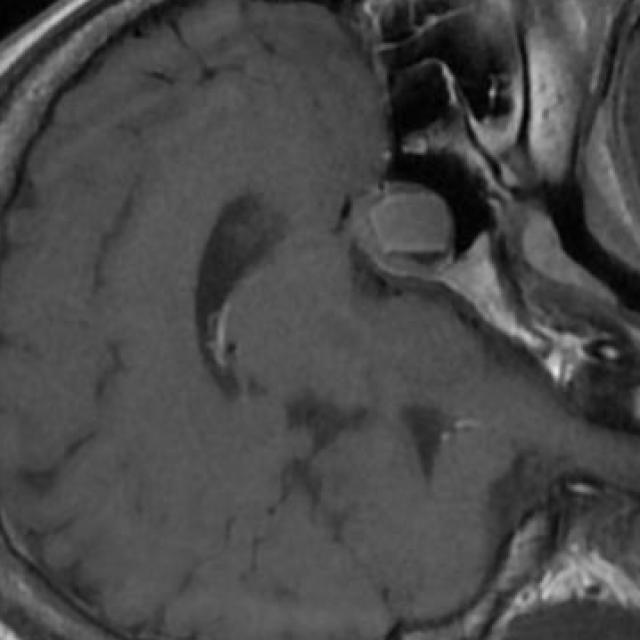pituitary: (355, 193, 455, 273)
